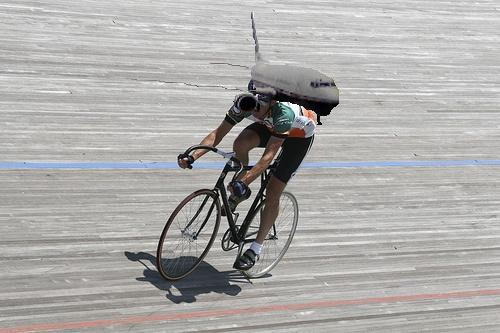tampered: (127, 12, 339, 125)
